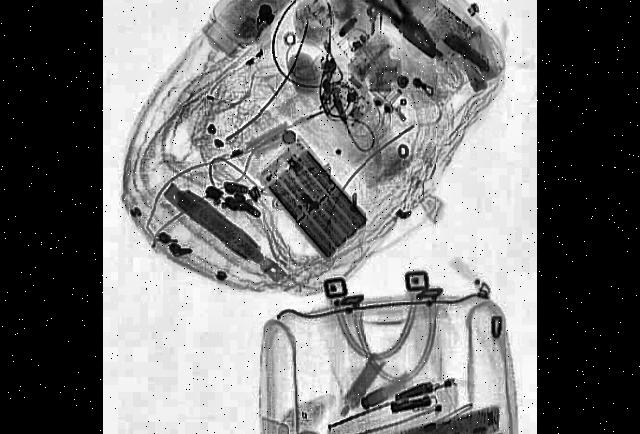Pliers: (326, 0, 443, 74)
